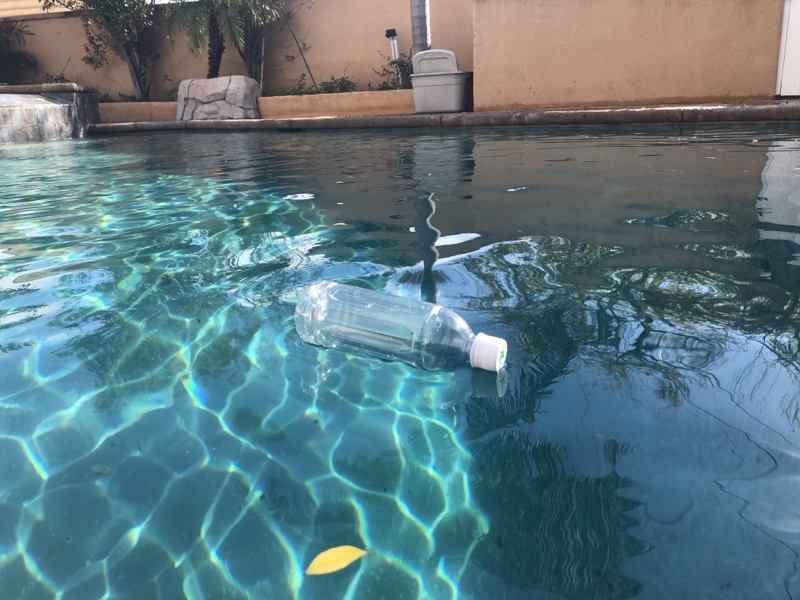Plastic Bottle: (292, 278, 510, 377)
